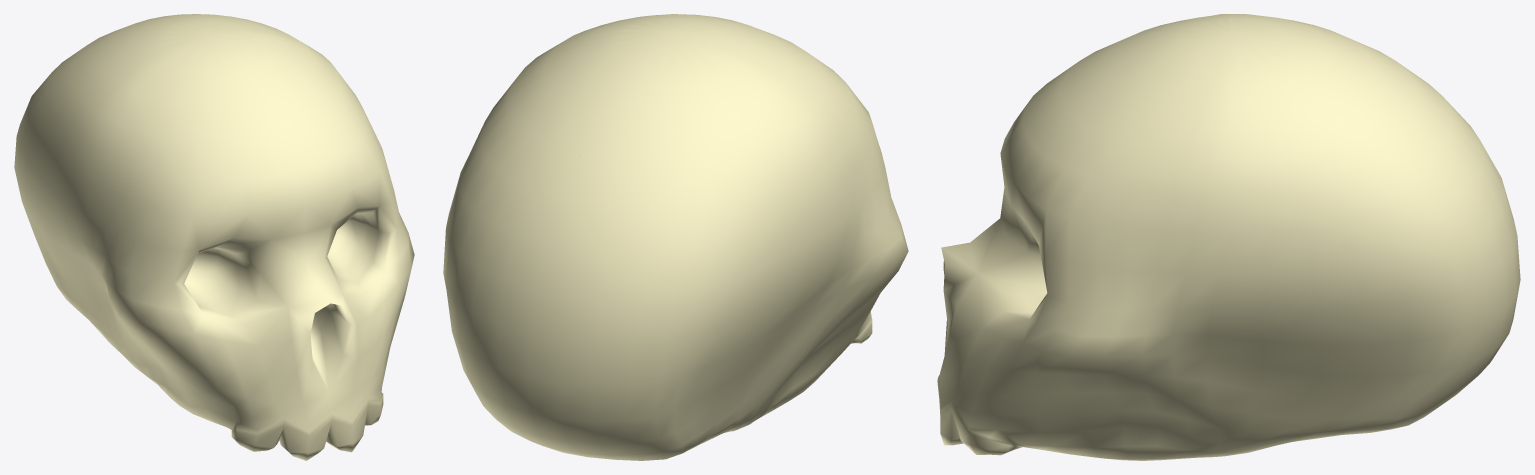
File: Skull.fbx
3 views of the same model, side by side, from view 1: azimuth 30°, elevation 25°; view 2: azimuth 150°, elevation 25°; view 3: azimuth 270°, elevation 25° (orthographic). The views are drawn at different scales.
Parts seen in each view (by area): view 1: skull; view 2: skull; view 3: skull.
Boxes of the visible parts, x1=… form: skull: x1=14, y1=14, x2=414, y2=460; skull: x1=443, y1=14, x2=908, y2=460; skull: x1=937, y1=14, x2=1520, y2=460.
Size of the model in its own units: 1.2 by 1.4 by 1.81.
